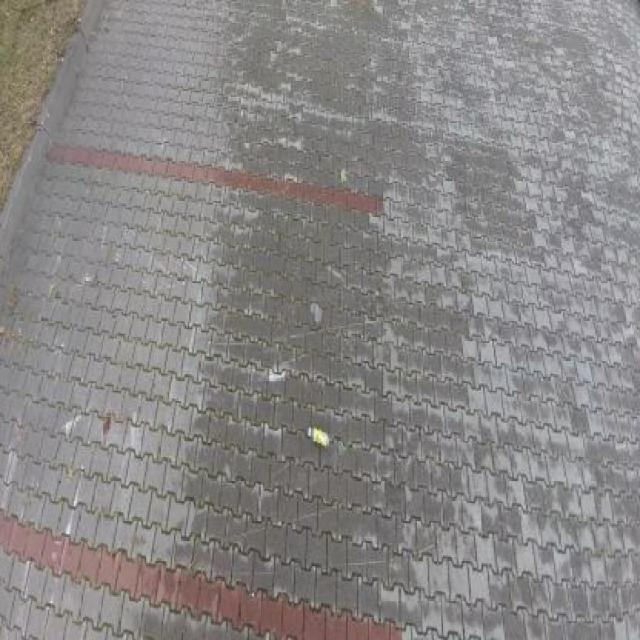Garbage: (308, 424, 331, 452)
